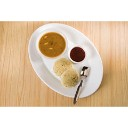idly: (60, 68, 79, 87), (53, 57, 71, 75)
